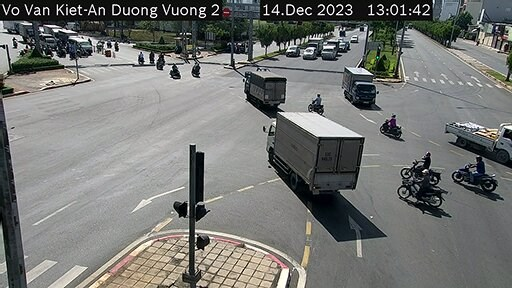motorbike: (460, 151, 503, 199), (403, 173, 444, 205), (383, 108, 404, 142), (410, 150, 438, 174), (305, 93, 329, 113), (167, 64, 182, 83), (188, 63, 203, 79)
truck: (261, 111, 362, 192), (440, 118, 512, 153), (340, 63, 384, 108), (241, 65, 286, 102), (320, 40, 339, 58)
